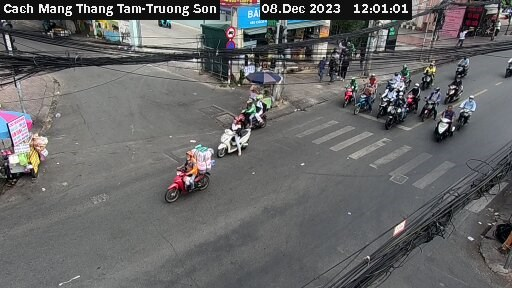motorbike: (153, 145, 221, 207), (233, 86, 284, 127), (215, 119, 257, 160), (454, 102, 482, 130), (431, 106, 456, 137), (368, 86, 391, 117), (349, 87, 374, 113), (442, 77, 468, 102), (337, 75, 361, 102), (455, 56, 479, 83), (422, 62, 444, 87), (417, 94, 439, 114), (387, 96, 403, 122)
